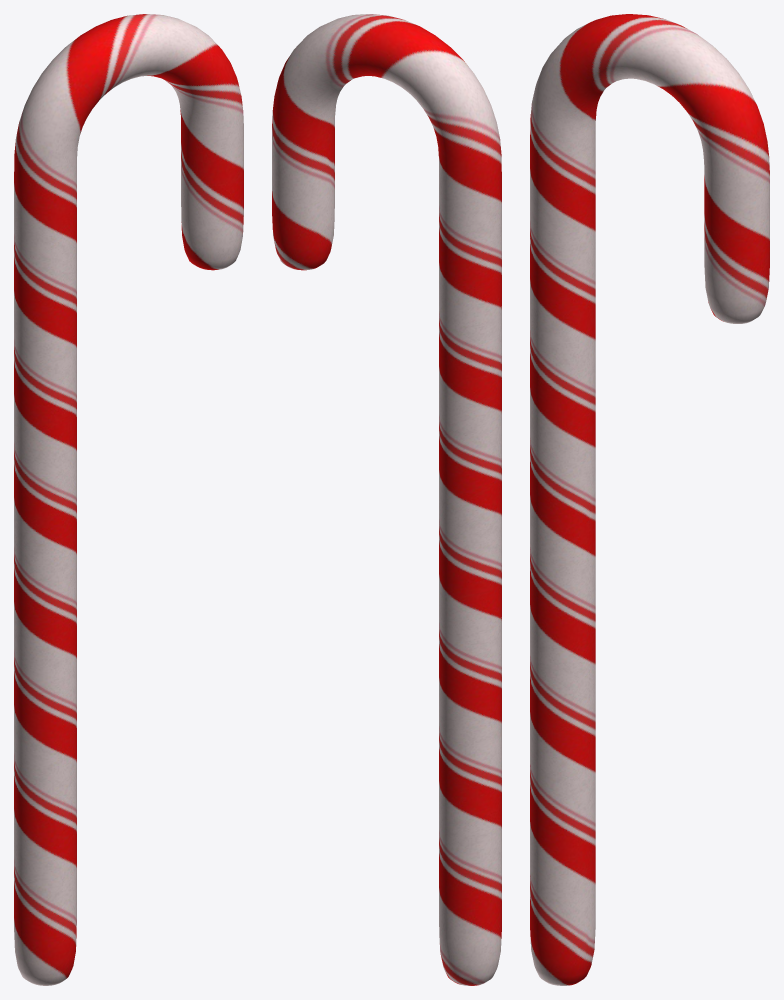
The model's file is baston.obj.
3 renders of one model, left to right at view 1: azimuth 30°, elevation 25°; view 2: azimuth 150°, elevation 25°; view 3: azimuth 330°, elevation 25°, orthographic. The views are drawn at different scales.
Visible parts, largest first — view 1: candyCane:candy_cane; view 2: candyCane:candy_cane; view 3: candyCane:candy_cane.
Part boxes in pixels (x1,y1,x2,y2): candyCane:candy_cane: [14, 14, 243, 985]; candyCane:candy_cane: [272, 14, 501, 985]; candyCane:candy_cane: [530, 14, 769, 985].
Size of the model in its own units: 0.3455 by 1.4 by 0.0849.
Materials: 1 (1 with a texture image).
